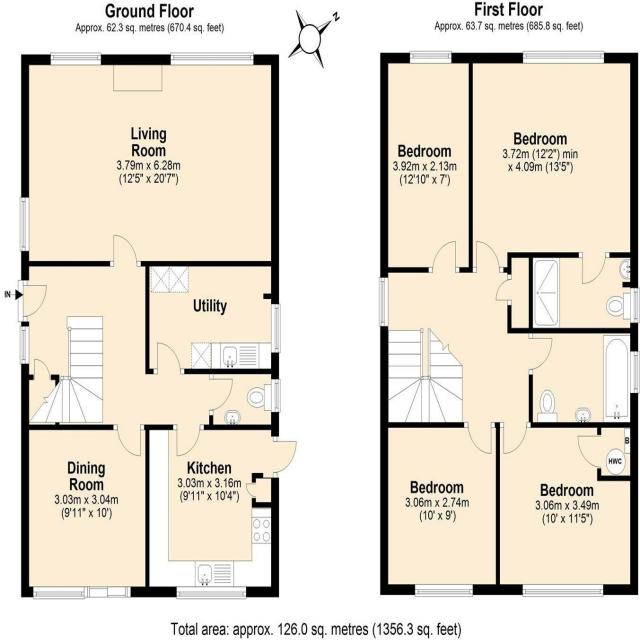DOOR: (17, 278, 47, 323), (209, 372, 234, 417), (152, 341, 185, 375), (109, 233, 142, 267), (578, 251, 610, 286), (463, 422, 496, 455), (499, 421, 531, 455), (113, 424, 145, 458), (528, 333, 553, 376), (427, 241, 460, 273), (173, 424, 205, 457), (472, 241, 504, 273)
ROOM: (19, 52, 280, 267), (468, 50, 638, 285), (145, 424, 297, 600), (495, 422, 638, 597), (20, 424, 150, 598), (380, 422, 500, 597), (380, 50, 473, 273)
WINDOW: (170, 52, 254, 66), (175, 585, 247, 601), (522, 50, 604, 64), (522, 584, 604, 597), (414, 583, 474, 598), (32, 586, 85, 600), (50, 52, 102, 66), (19, 196, 30, 252), (378, 276, 389, 328), (270, 302, 281, 354), (409, 51, 452, 64), (630, 350, 640, 394), (19, 325, 30, 365), (630, 287, 640, 324), (271, 378, 281, 414)
